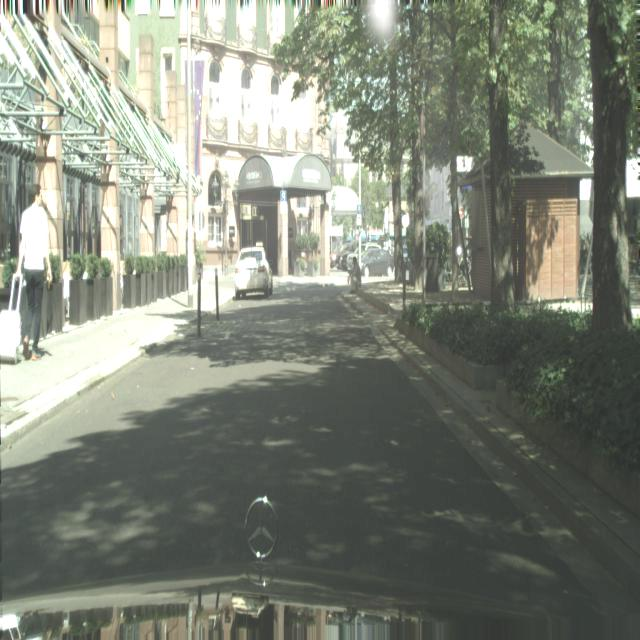person: (16, 184, 52, 360), (348, 255, 362, 294)
truck: (234, 244, 274, 299), (341, 243, 395, 279)
